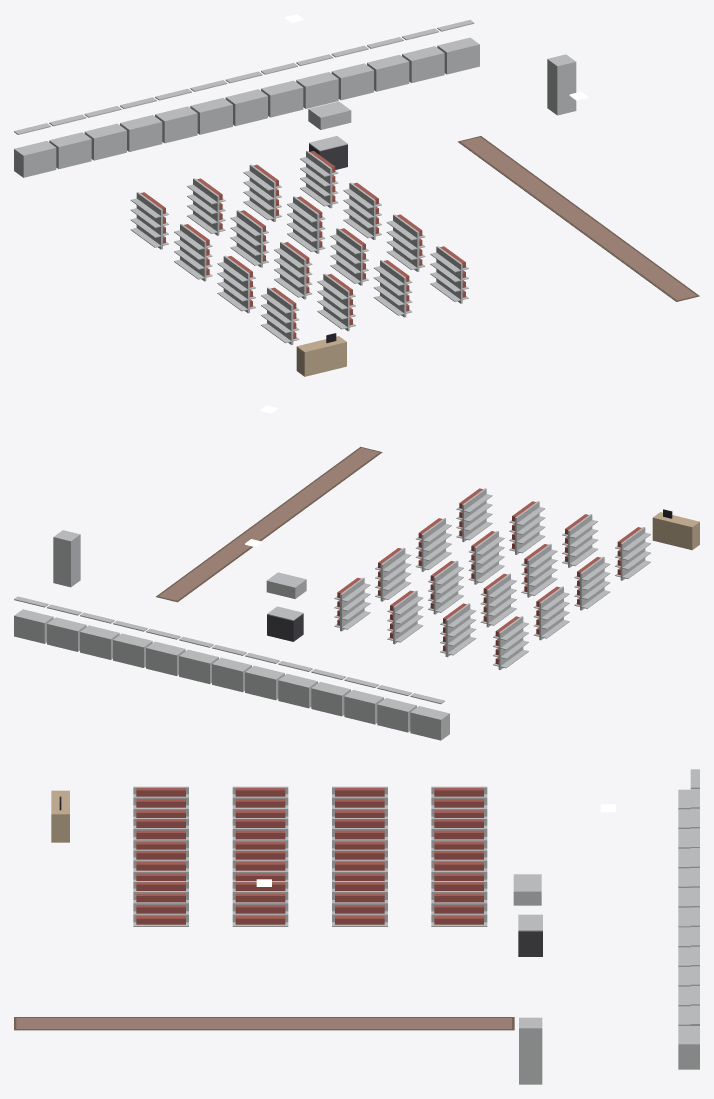
File: fine-s0.glb
3 views of the same model, one above another, from view 1: azimuth 30°, elevation 25°; view 2: azimuth 150°, elevation 25°; view 3: azimuth 270°, elevation 25° (orthographic). The views are drawn at different scales.
Visible parts, largest first — view 1: soft-s0, range.000, shop-counter.000, fridge.000, shelf.011, shelf.001, shelf.014, shelf.013, shelf.004, shelf.005, shelf.008, shelf.015 (+21 smaller); view 2: soft-s0, range.000, fridge.000, shop-counter.000, shelf.000, shelf.003, shelf.009, shelf.001, shelf.014, shelf.004, shelf.012, shelf.013 (+21 smaller); view 3: soft-s0, shelf.012, shelf.013, shelf.015, shelf.014, range.000, shelf.004, shelf.006, shelf.000, shelf.008, shelf.002, shelf.010 (+9 smaller).
Part boxes in pixels (x1=…): soft-s0: x1=458, y1=136, x2=699, y2=301; range.000: x1=308, y1=101, x2=351, y2=169; shop-counter.000: x1=296, y1=333, x2=346, y2=376; fridge.000: x1=547, y1=54, x2=576, y2=115; shelf.011: x1=373, y1=260, x2=412, y2=317; shelf.001: x1=174, y1=224, x2=212, y2=281; shelf.014: x1=386, y1=214, x2=425, y2=271; shelf.013: x1=343, y1=182, x2=381, y2=239; shelf.004: x1=187, y1=178, x2=225, y2=235; shelf.005: x1=230, y1=210, x2=268, y2=267; shelf.008: x1=243, y1=164, x2=281, y2=221; shelf.015: x1=430, y1=246, x2=468, y2=303; soft-s0: x1=156, y1=446, x2=382, y2=602; range.000: x1=266, y1=572, x2=306, y2=641; fridge.000: x1=53, y1=530, x2=80, y2=587; shop-counter.000: x1=652, y1=509, x2=699, y2=550; shelf.000: x1=493, y1=616, x2=528, y2=669; shelf.003: x1=615, y1=527, x2=650, y2=580; shelf.009: x1=428, y1=560, x2=463, y2=614; shelf.001: x1=533, y1=586, x2=569, y2=640; shelf.014: x1=415, y1=518, x2=451, y2=571; shelf.004: x1=440, y1=603, x2=476, y2=657; shelf.012: x1=334, y1=577, x2=370, y2=631; shelf.013: x1=375, y1=548, x2=411, y2=601; soft-s0: x1=14, y1=1017, x2=514, y2=1030; shelf.012: x1=431, y1=881, x2=487, y2=926; shelf.013: x1=332, y1=881, x2=387, y2=926; shelf.015: x1=133, y1=881, x2=188, y2=926; shelf.014: x1=232, y1=881, x2=288, y2=926; range.000: x1=513, y1=874, x2=542, y2=956; shelf.004: x1=431, y1=818, x2=487, y2=849; shelf.006: x1=232, y1=818, x2=288, y2=849; shelf.000: x1=431, y1=786, x2=487, y2=817; shelf.008: x1=431, y1=849, x2=487, y2=880; shelf.002: x1=232, y1=786, x2=288, y2=817; shelf.010: x1=232, y1=849, x2=288, y2=880.
Size of the model in its own units: 20.54 by 5.02 by 22.09.
